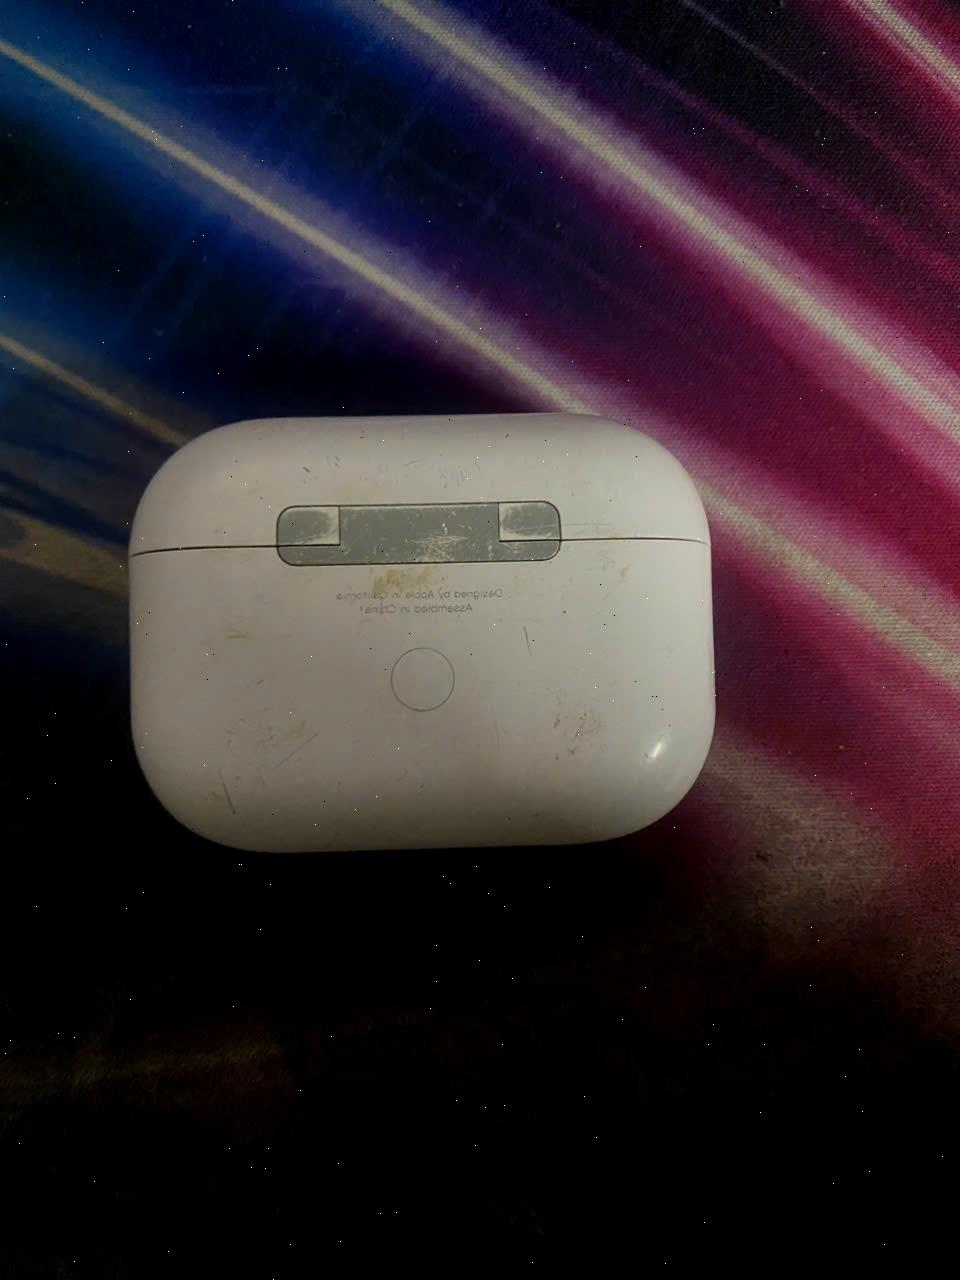airpod: (130, 414, 715, 852)
